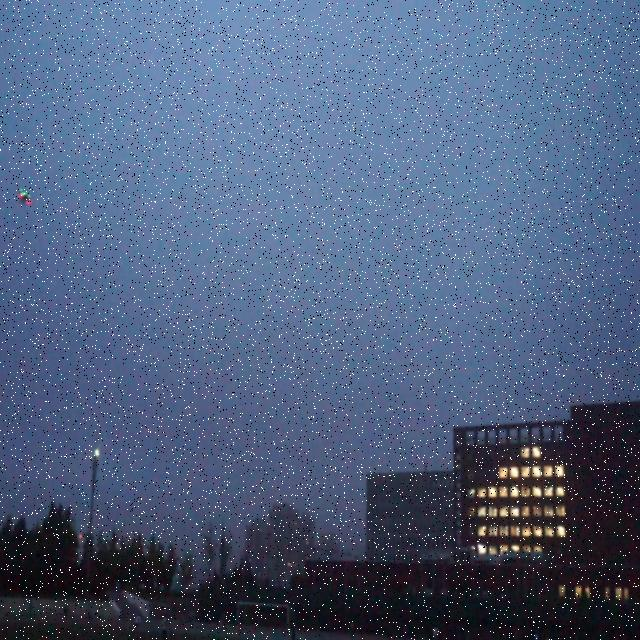UAV: (17, 188, 33, 204)
